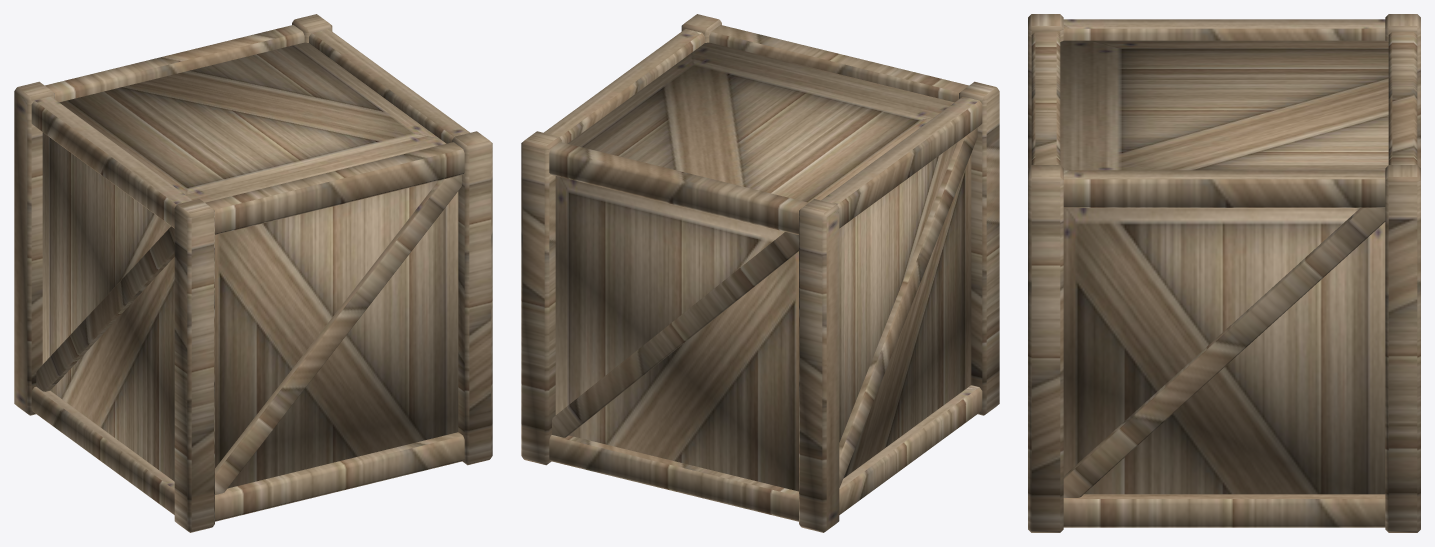
Rendered from WoodenBox02.fbx.
3 views of the same model, side by side, from view 1: azimuth 30°, elevation 25°; view 2: azimuth 150°, elevation 25°; view 3: azimuth 270°, elevation 25° (orthographic). The views are drawn at different scales.
Visible parts, largest first — view 1: WoodenBox; view 2: WoodenBox; view 3: WoodenBox.
Boxes of the visible parts, x1=… form: WoodenBox: x1=14, y1=14, x2=492, y2=532; WoodenBox: x1=521, y1=14, x2=999, y2=532; WoodenBox: x1=1028, y1=14, x2=1420, y2=532.
Size of the model in its own units: 1 by 1 by 1.
Materials: 1 (1 with a texture image).
